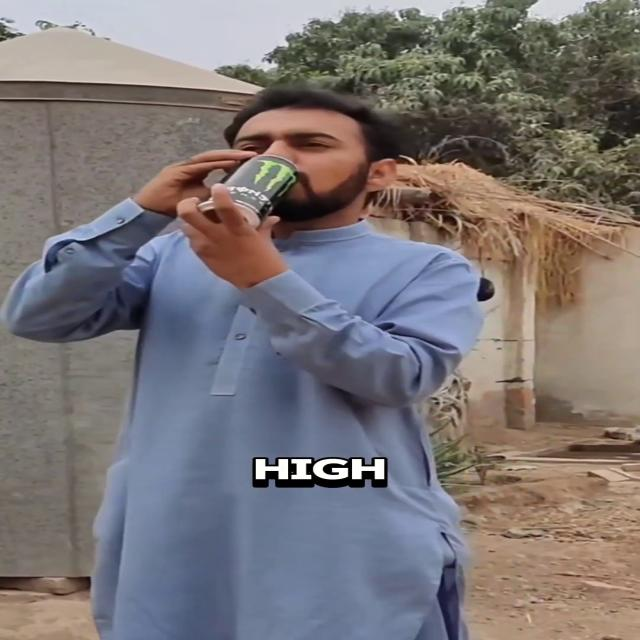Can: (200, 155, 299, 232)
Hand: (172, 183, 284, 267), (139, 146, 255, 202)
Mouth: (242, 170, 312, 187)
